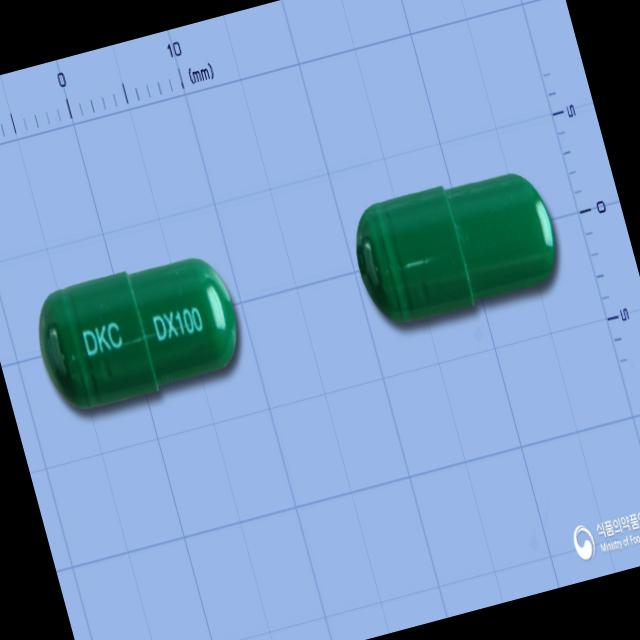Doxiramycin Cap: (25, 243, 252, 420)
